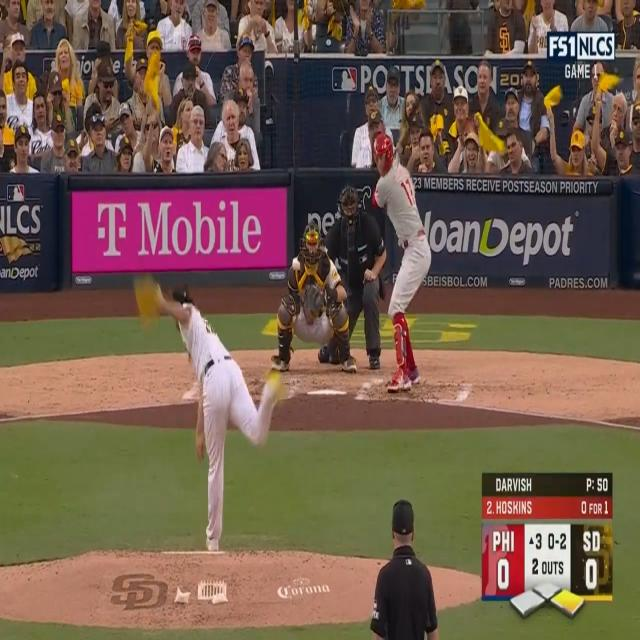baseball: (292, 258, 301, 271)
